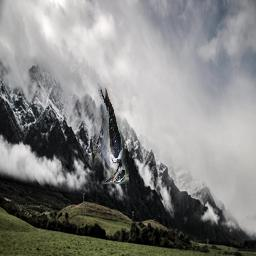Woodpecker: (95, 84, 130, 185)
